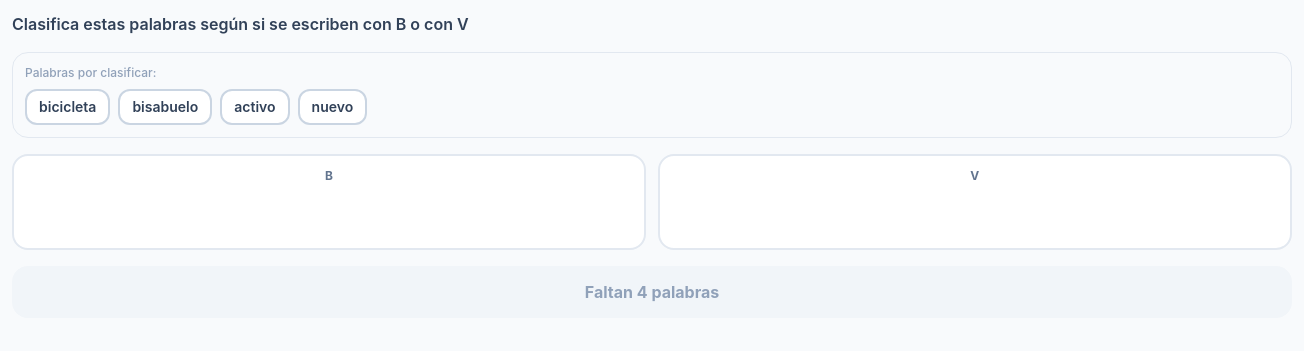
Test case: ClassifyCard › al tocar una palabra dos veces la deselecciona
This screenshot has width=1304, height=351.
Click the button "bicicleta": (68, 107) [25, 89, 110, 125]
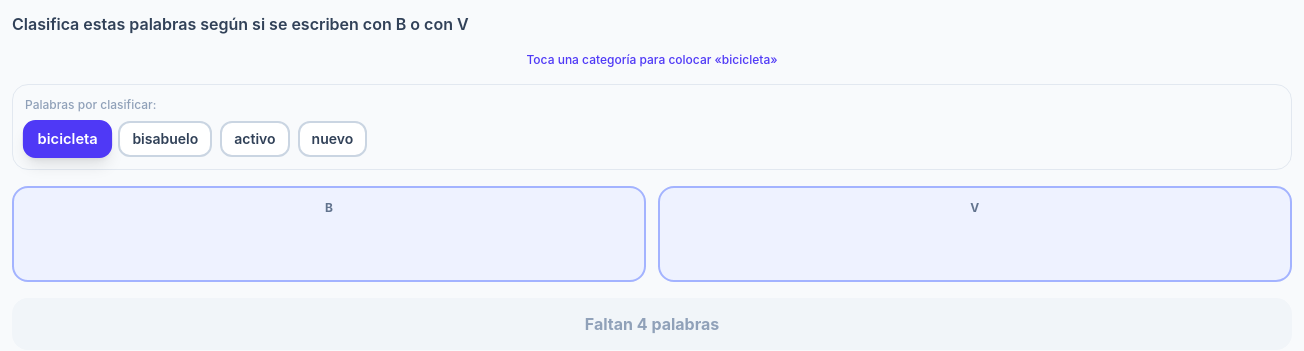
Click the button "bicicleta": (68, 139) [23, 120, 112, 158]
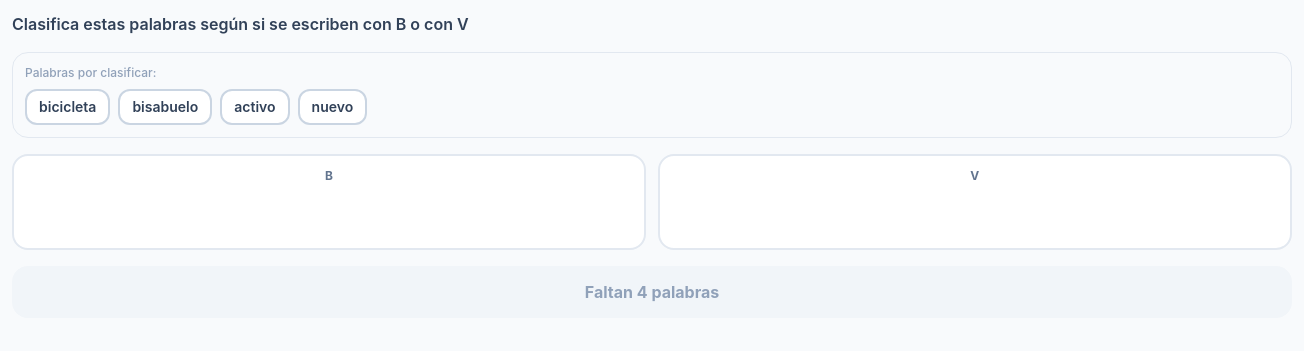
Expected: the text "Toca una categoría" is gone
